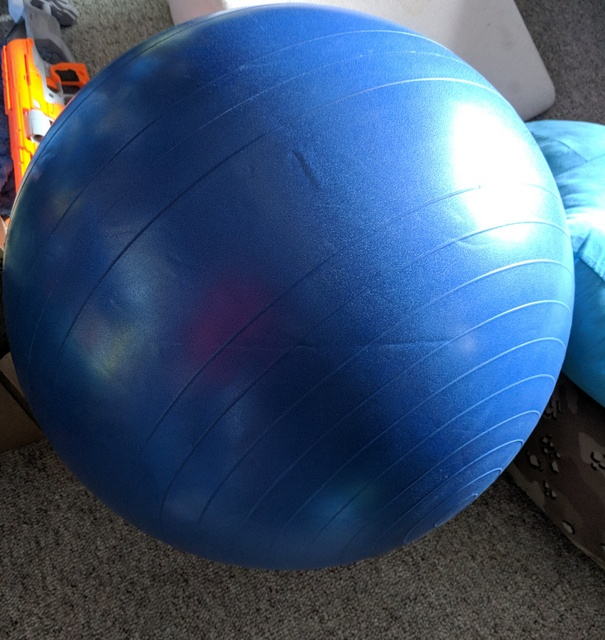ball: (1, 2, 575, 576)
